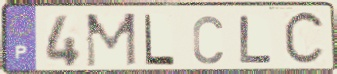4: (43, 13, 84, 69)
C: (282, 8, 328, 69), (191, 13, 225, 66)
L: (238, 14, 276, 65), (143, 12, 177, 67)
M: (84, 11, 138, 69)
